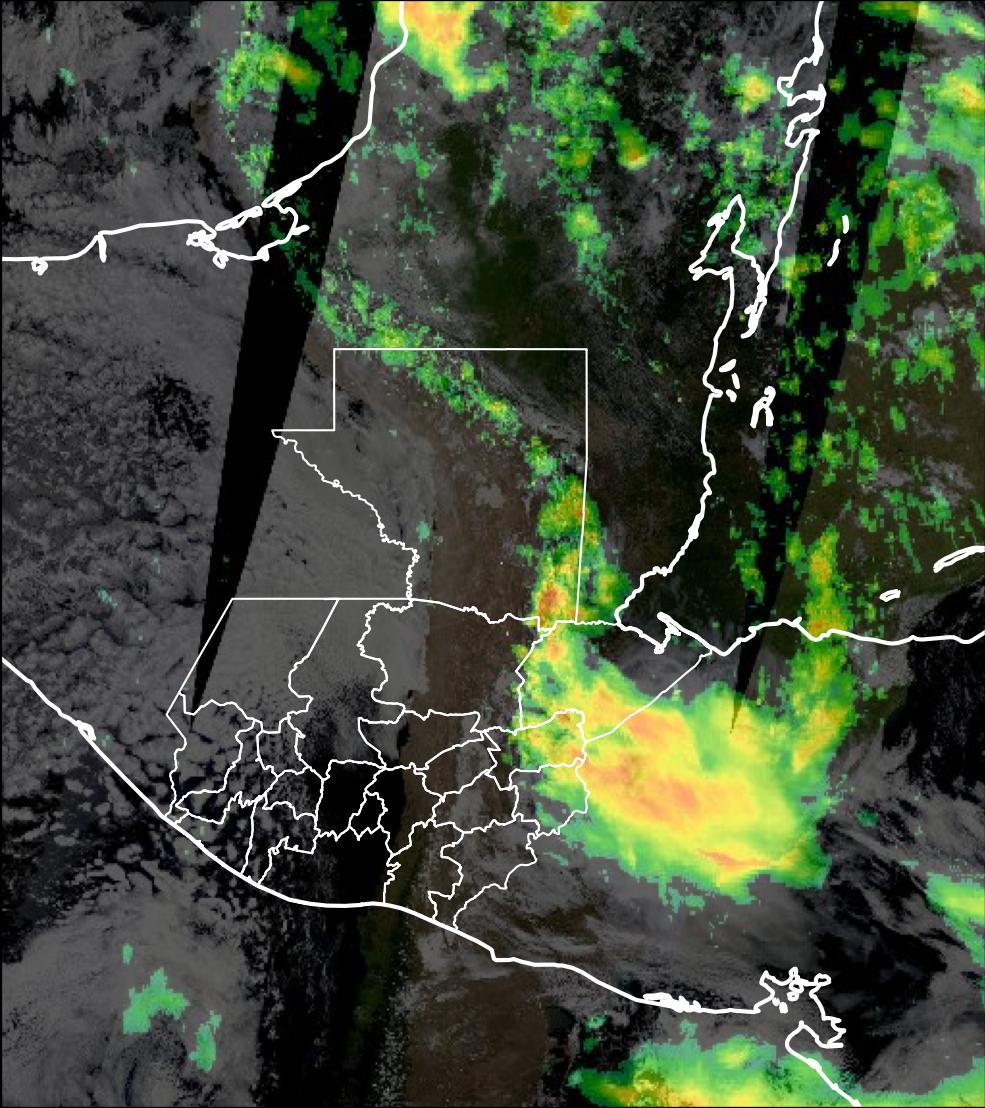precipitacion: (586, 712, 767, 888)
